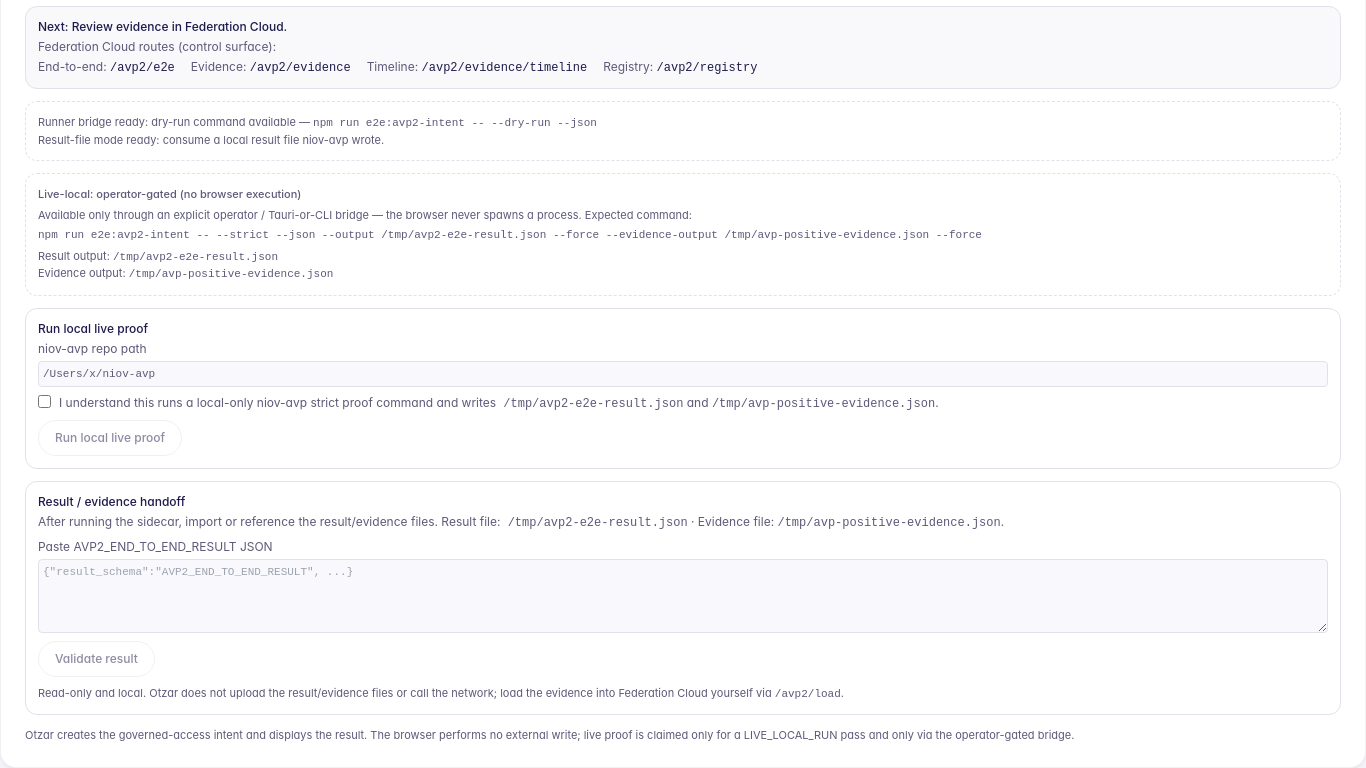
it: Avp2GovernedAccessCard › 12. a failed run shows safe error codes only (no raw stderr)
(page scrolled)
Click the checkbox with test id "avp2-run-confirm" at (44, 401), box 38,394 -> 51,408
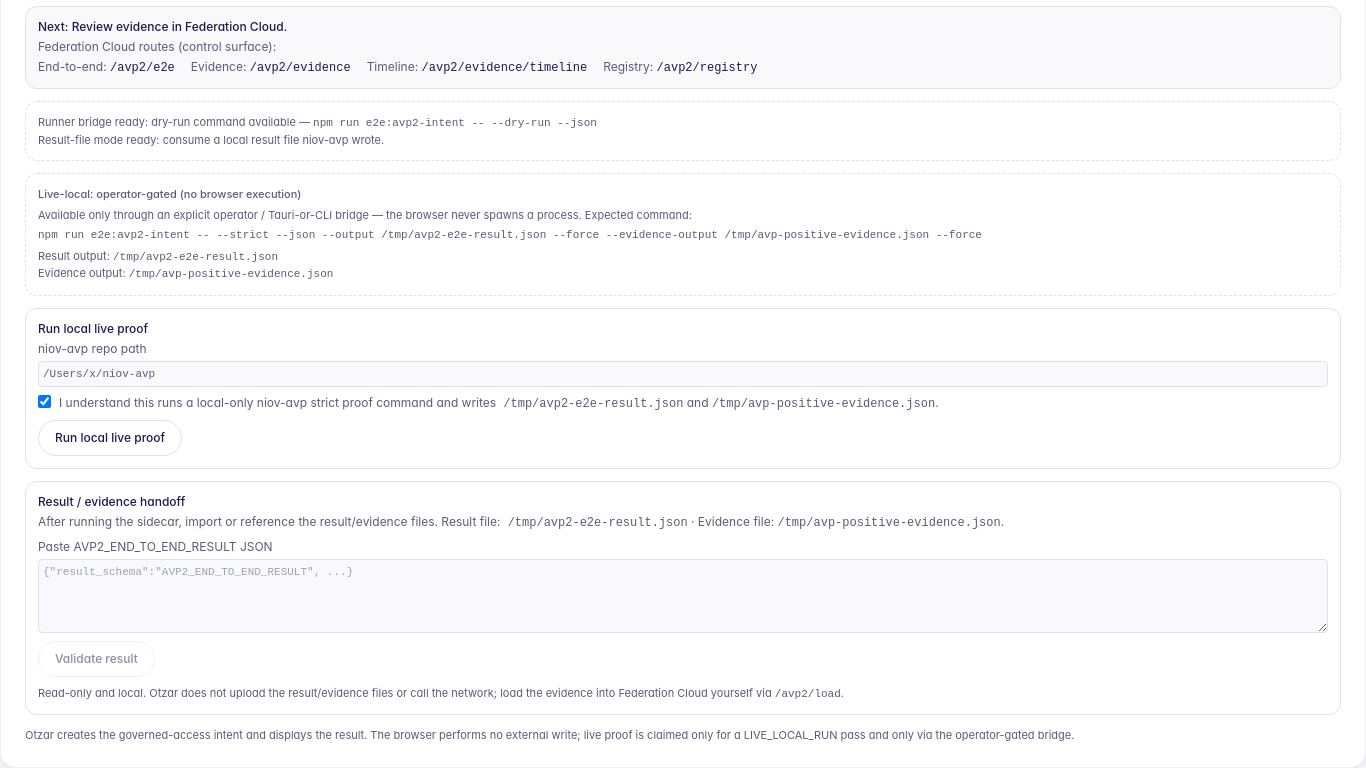
Click the button with test id "avp2-run-button" at (110, 438), box 38,420 -> 182,456
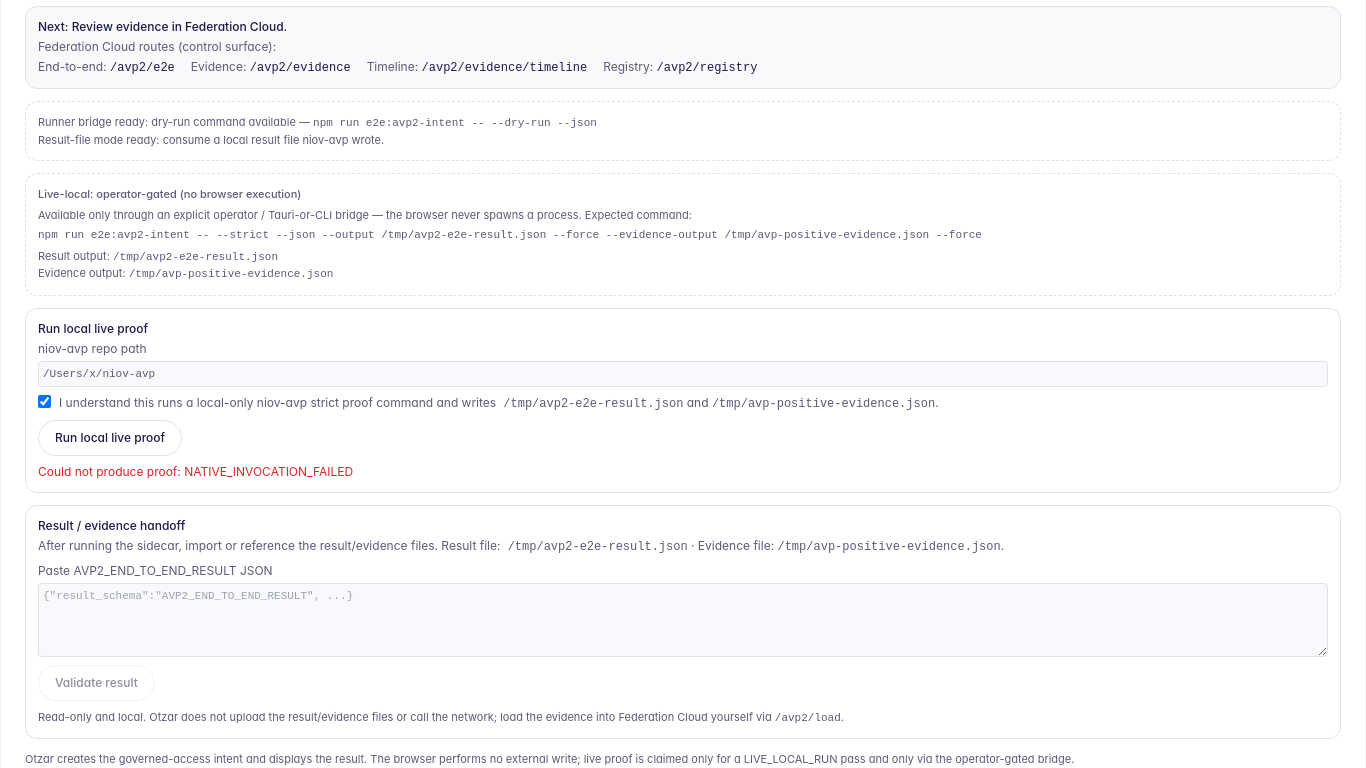
Expected: the text "Could not produce proof: NATIVE_INVOCATION_FAILED" is shown, 38,464 -> 353,478
Expected: the text with test id "avp2-run-error" shows "NATIVE_INVOCATION_FAILED", 184,464 -> 353,478
